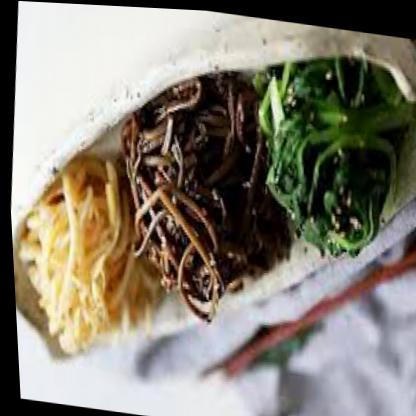bellflower greens: (18, 177, 145, 349)
seasoned bracken: (114, 75, 272, 311)
spinach greens: (255, 57, 397, 258)
